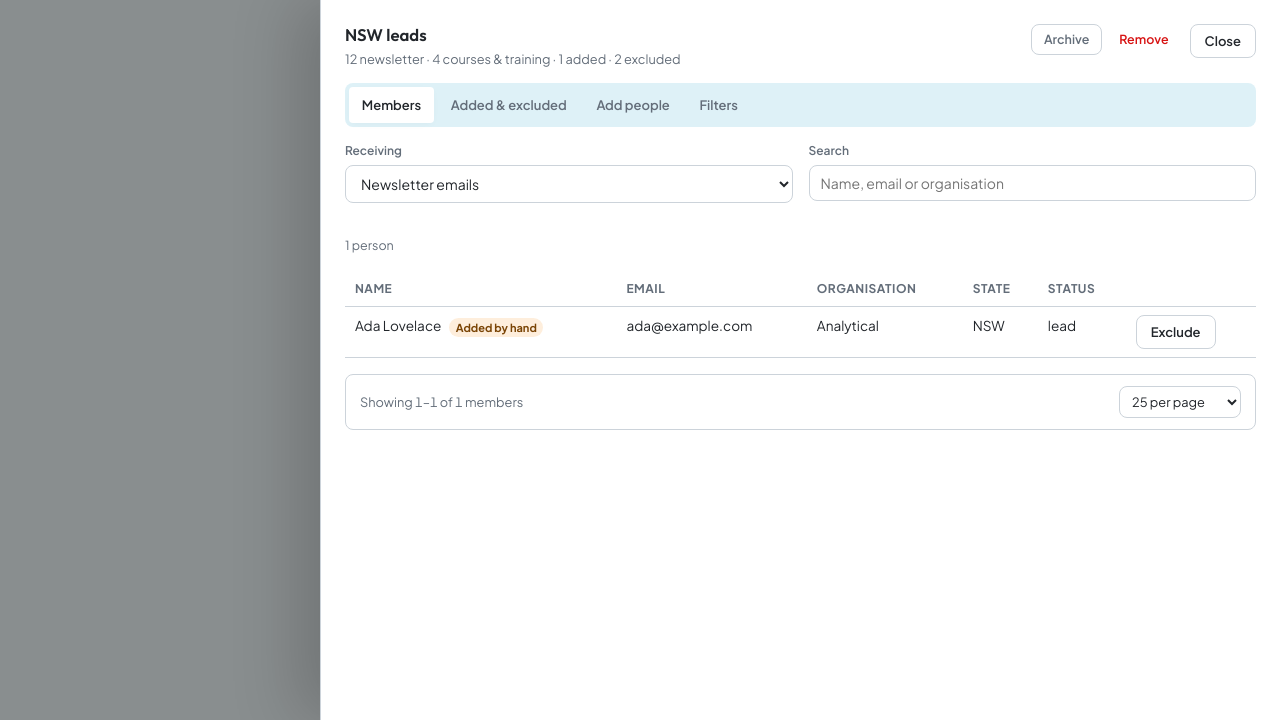
Test case: SegmentDrawer › shows a refusal from the server
This screenshot has width=1280, height=720.
Click the button with test id "exclude-c1": x=1176, y=332 [1136,315,1216,349]
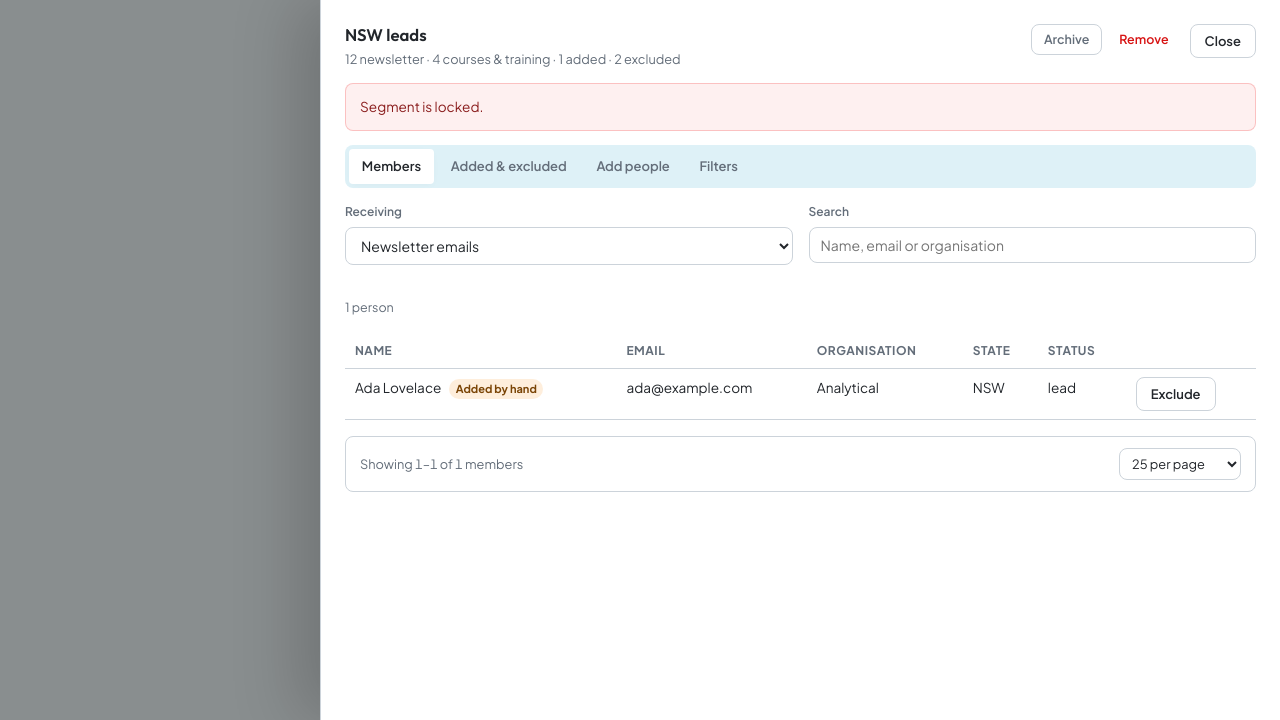
Check: the message reads "Segment is locked.", box [360,98,483,116]
